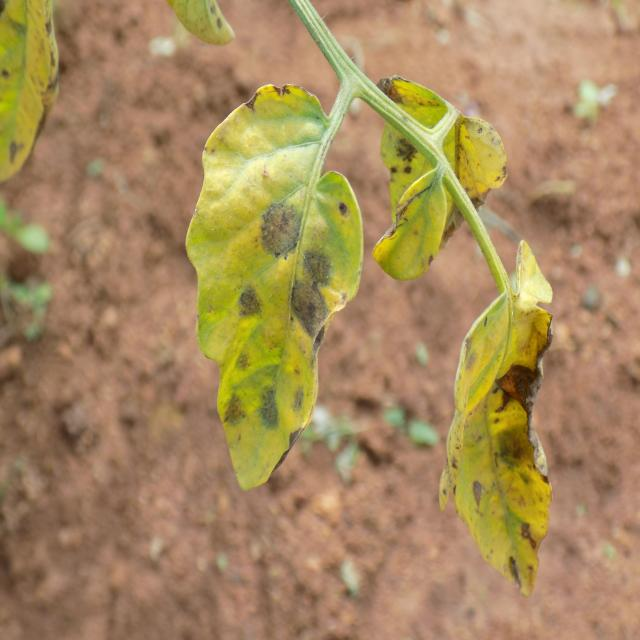tomato_early blight: (188, 81, 364, 494), (447, 238, 553, 594), (378, 81, 509, 266), (0, 0, 58, 182), (376, 172, 454, 288)
